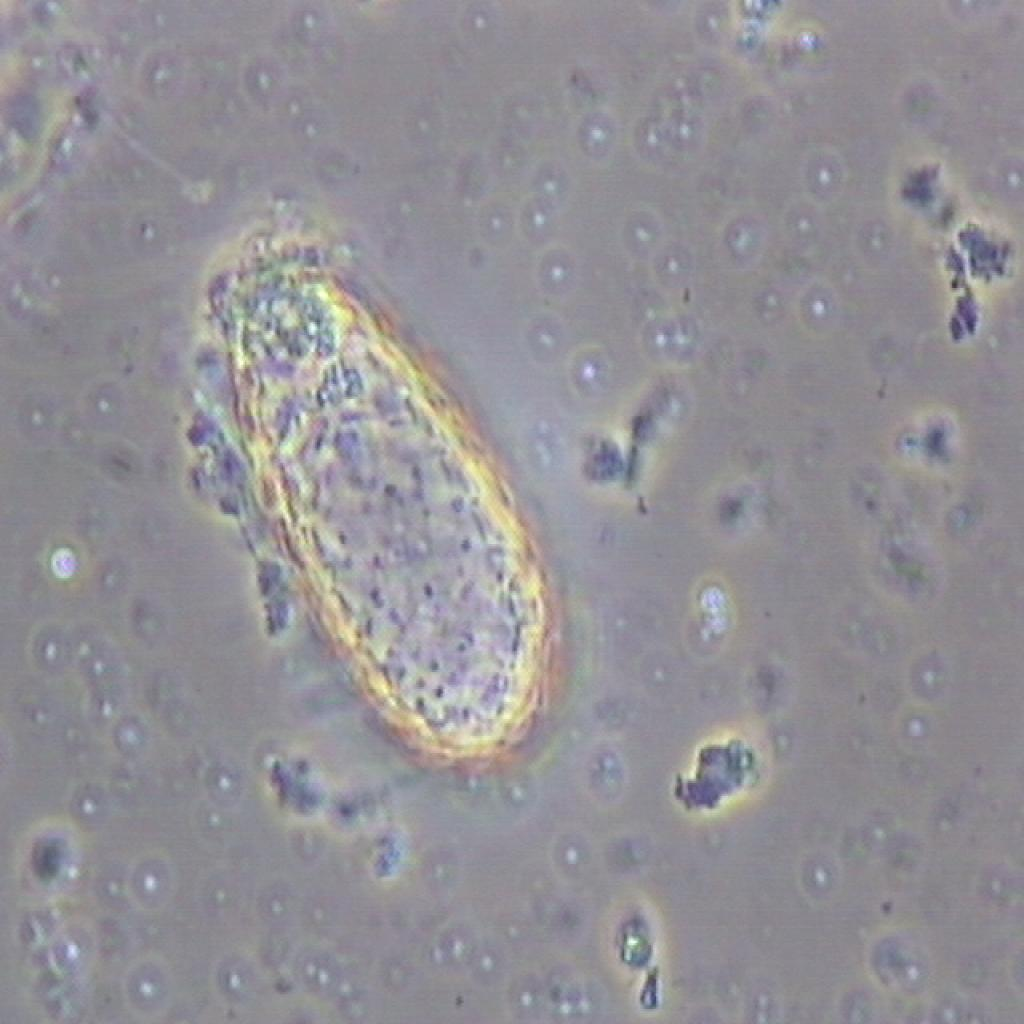Euglypha: (165, 202, 590, 796)
